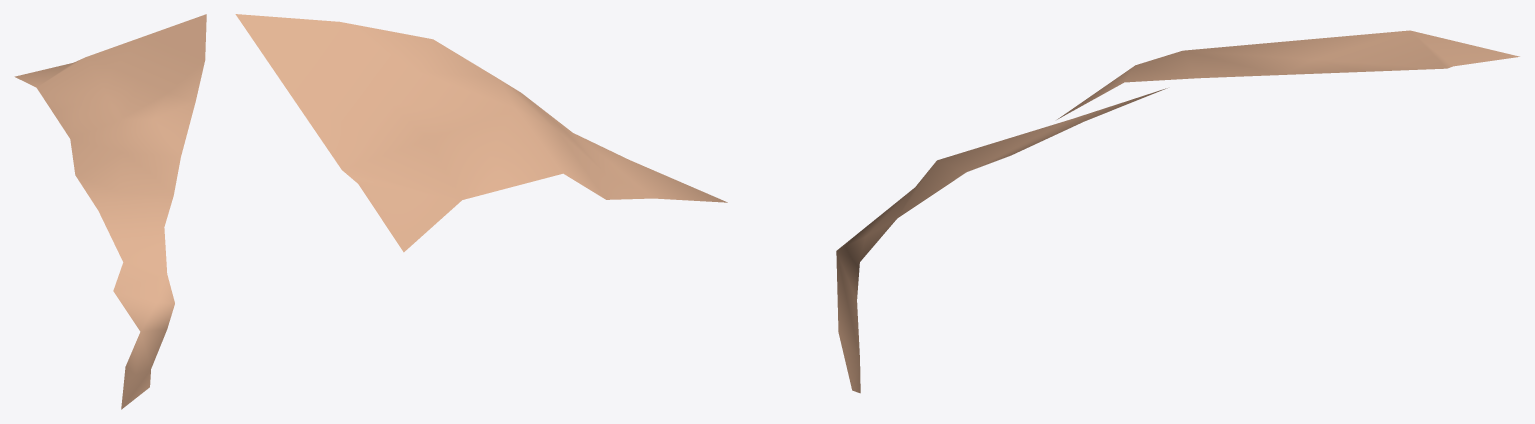
File: eminentia-fossae-triangularis-l.glb
3 views of the same model, side by side, from view 1: azimuth 30°, elevation 25°; view 2: azimuth 150°, elevation 25°; view 3: azimuth 270°, elevation 25° (orthographic). The views are drawn at different scales.
Parts seen in each view (by area): view 1: Eminentia fossae triangularis.l; view 2: Eminentia fossae triangularis.l; view 3: Eminentia fossae triangularis.l.
Boxes of the visible parts, <box> form: Eminentia fossae triangularis.l: <box>14,14,206,409</box>; Eminentia fossae triangularis.l: <box>235,14,727,252</box>; Eminentia fossae triangularis.l: <box>836,30,1519,393</box>.
Size of the model in its own units: 0.0117 by 0.0142 by 0.017.
